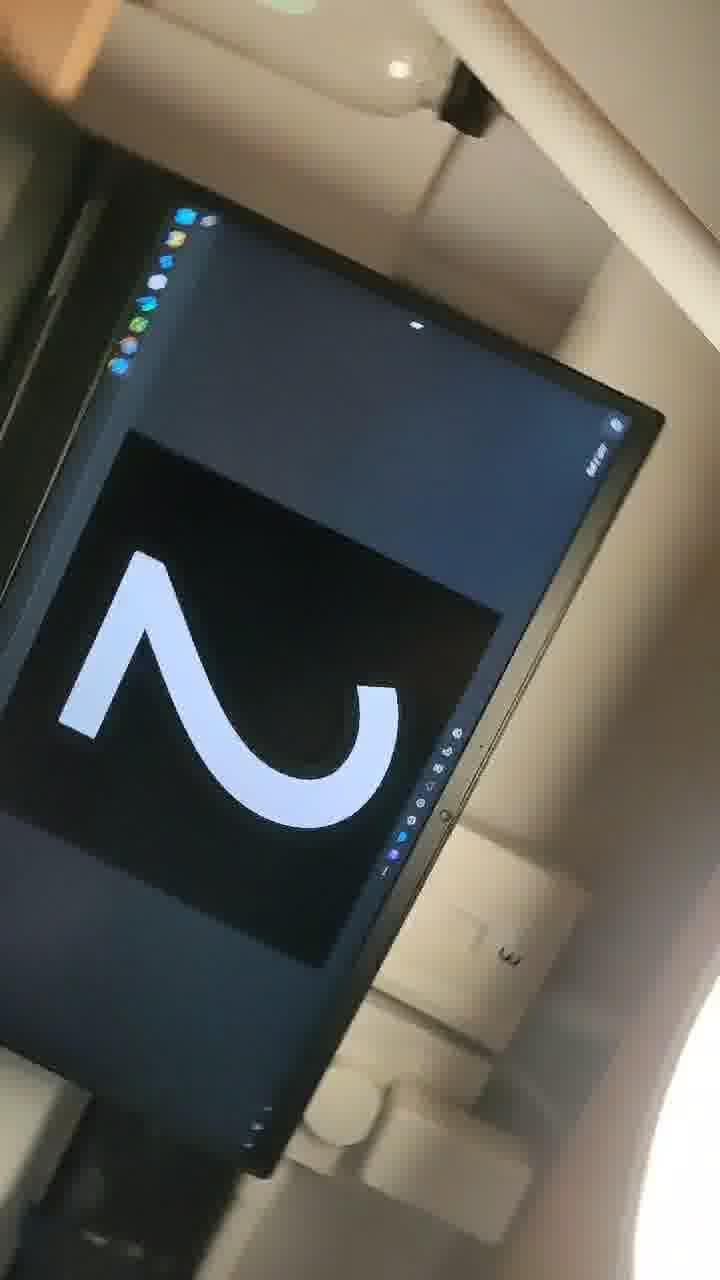two: (42, 513, 421, 952)
